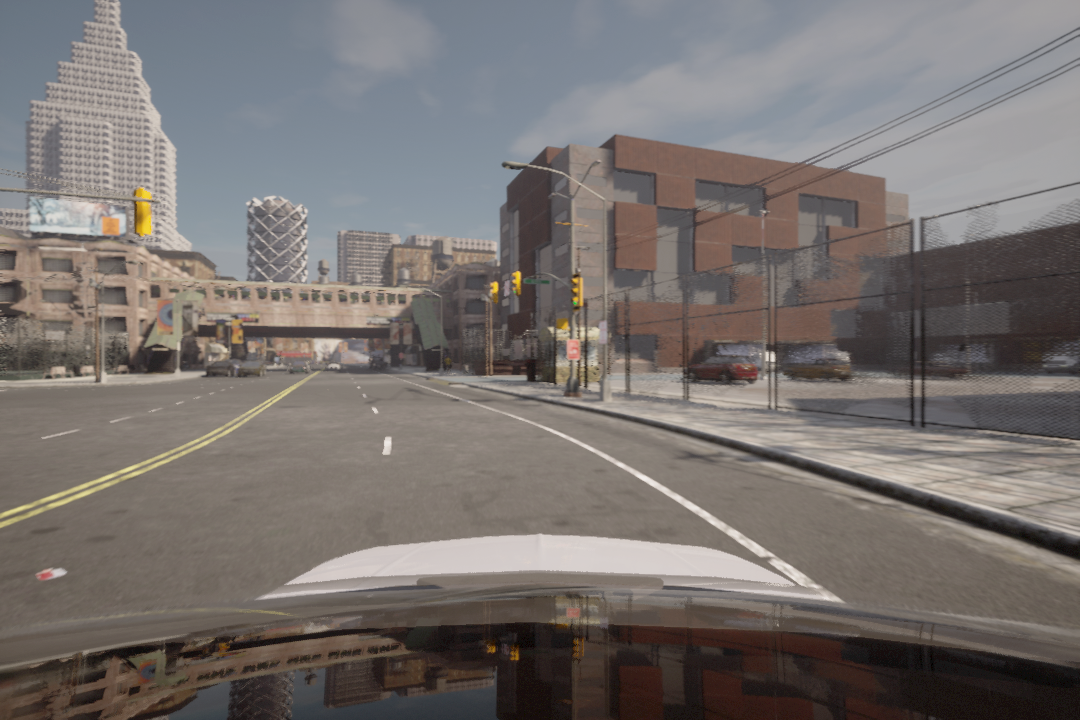TrafficLight: (567, 276, 584, 307), (508, 271, 526, 298), (487, 280, 499, 301)
